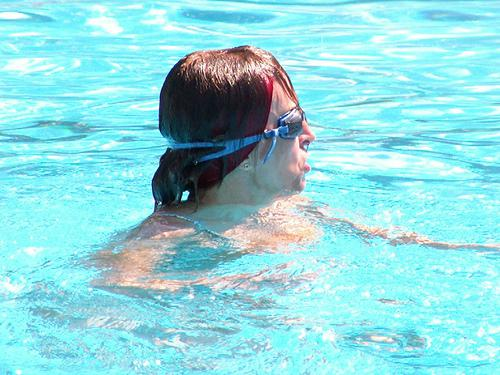swimmer: (123, 38, 313, 294)
